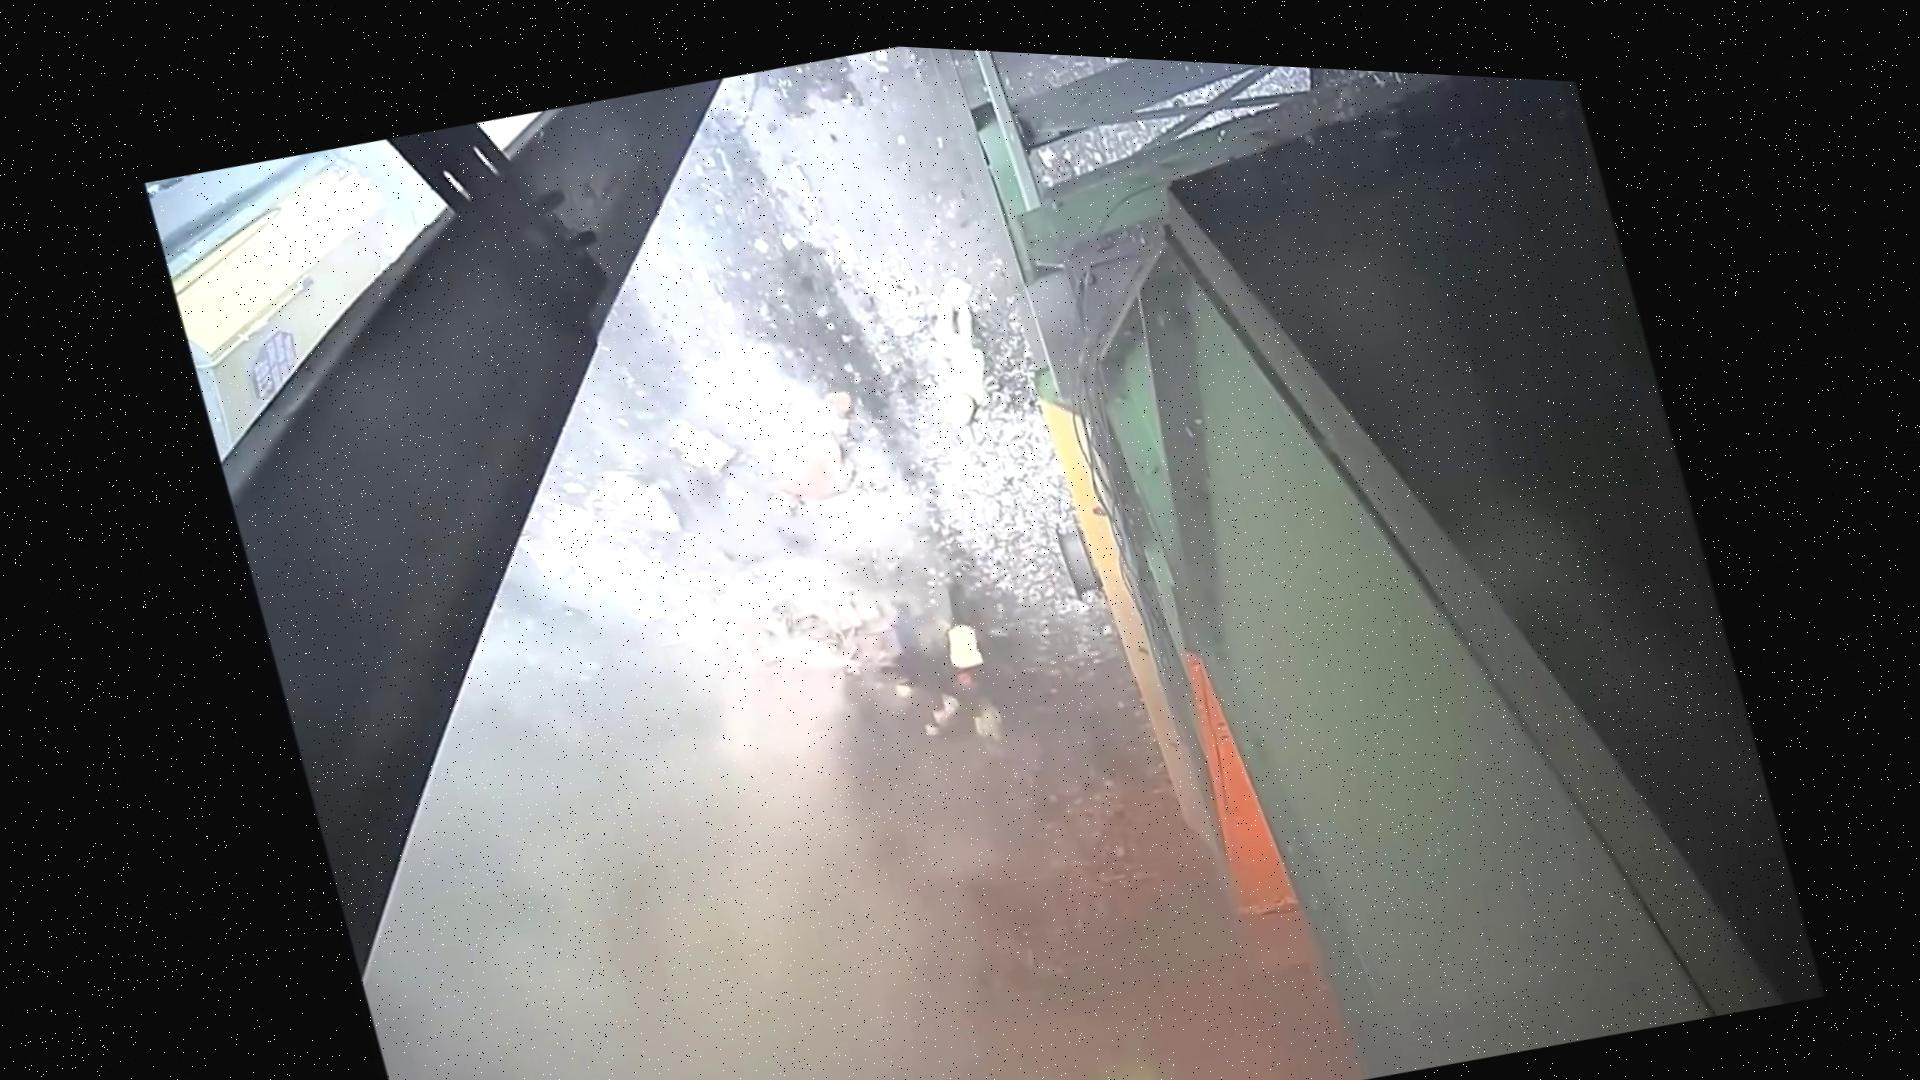smoke: (542, 506, 992, 949)
